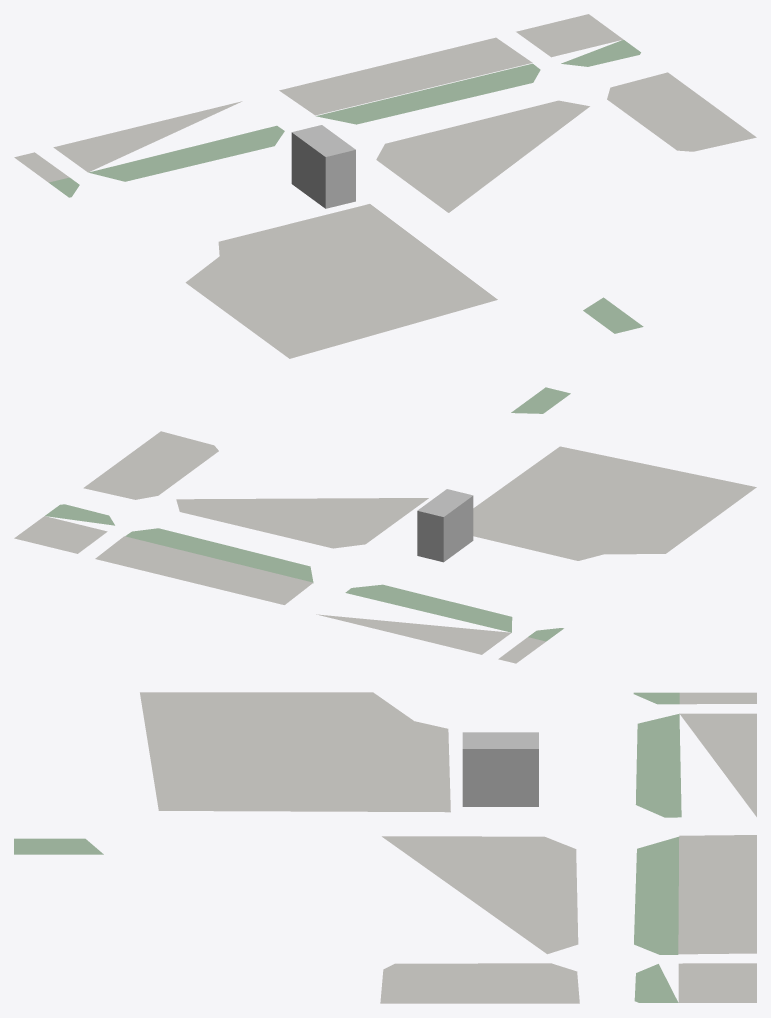
The model's file is 124_71_mid.glb.
3 renders of one model, top to bottom at view 1: azimuth 30°, elevation 25°; view 2: azimuth 150°, elevation 25°; view 3: azimuth 270°, elevation 25°, orthographic. The views are drawn at different scales.
Bounding box in the file's own units: 500 × 43.57 × 500.
